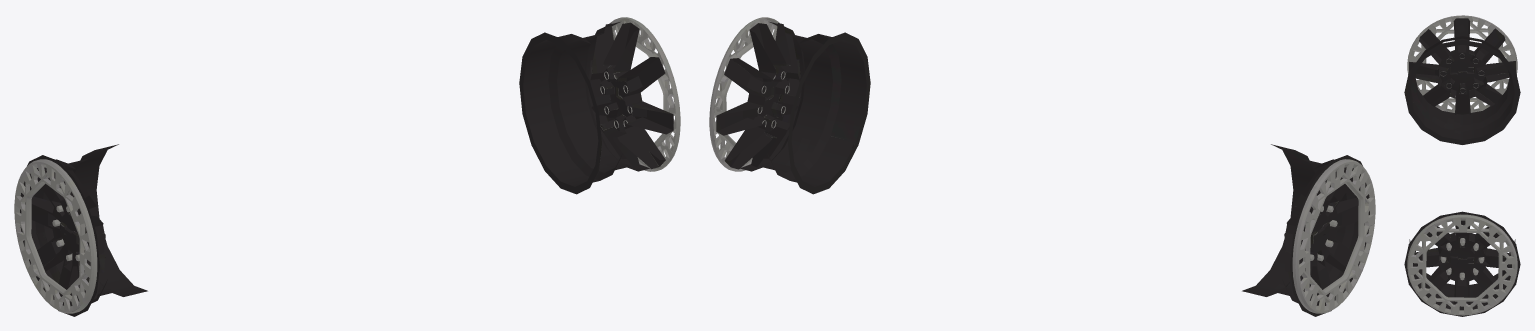
File: hummer-ev-2_Object_8.glb
The picture shows the model from 3 angles, left to right: view 1: azimuth 30°, elevation 25°; view 2: azimuth 150°, elevation 25°; view 3: azimuth 270°, elevation 25°; orthographic projection. The views are drawn at different scales.
Parts seen in each view (by area): view 1: Object_8; view 2: Object_8; view 3: Object_8.
Boxes of the visible parts, x1,y1,x2,y2 form: Object_8: [14, 17, 680, 316]; Object_8: [709, 17, 1375, 316]; Object_8: [1404, 15, 1520, 316].
Bounding box in the file's own units: 2.18 × 0.5304 × 0.5303.
Materials: 1 (1 with a texture image).
